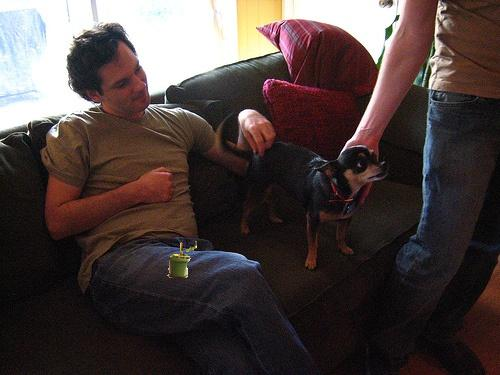tampered: (168, 242, 197, 278)
